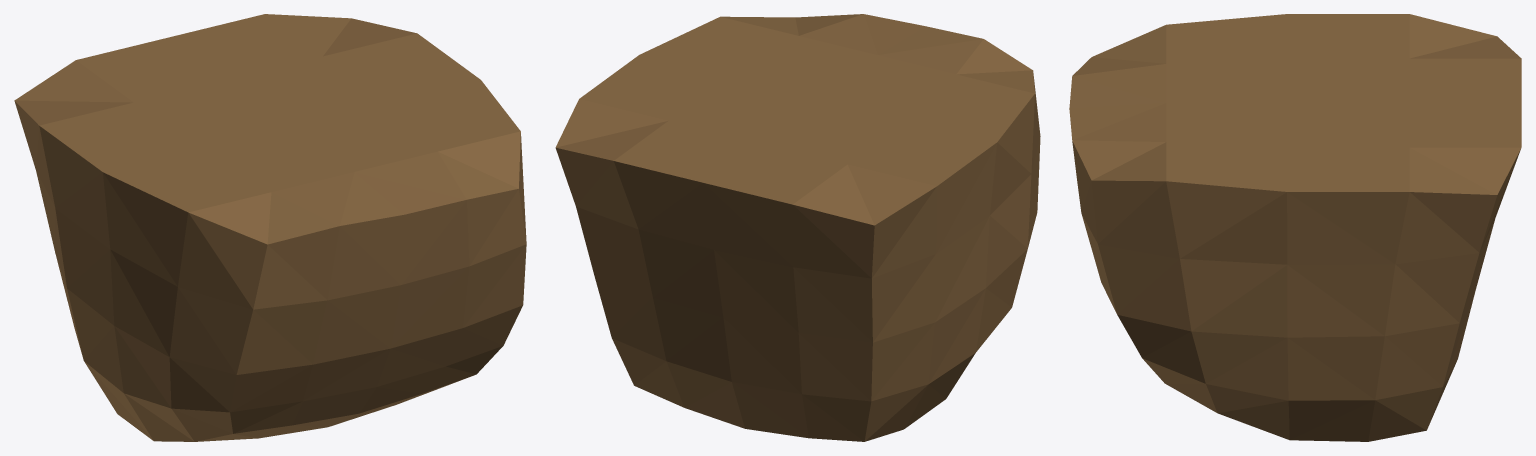
The model's file is LeftFingerJoint33y_joint_visu.dae.
3 views of the same model, side by side, from view 1: azimuth 30°, elevation 25°; view 2: azimuth 150°, elevation 25°; view 3: azimuth 270°, elevation 25° (orthographic). The views are drawn at different scales.
Parts seen in each view (by area): view 1: node; view 2: node; view 3: node.
Boxes of the visible parts, <box> form: node: <box>14,14,526,441</box>; node: <box>555,14,1040,441</box>; node: <box>1069,14,1521,441</box>.
Bounding box in the file's own units: 0.0109 × 0.00847 × 0.0117.
